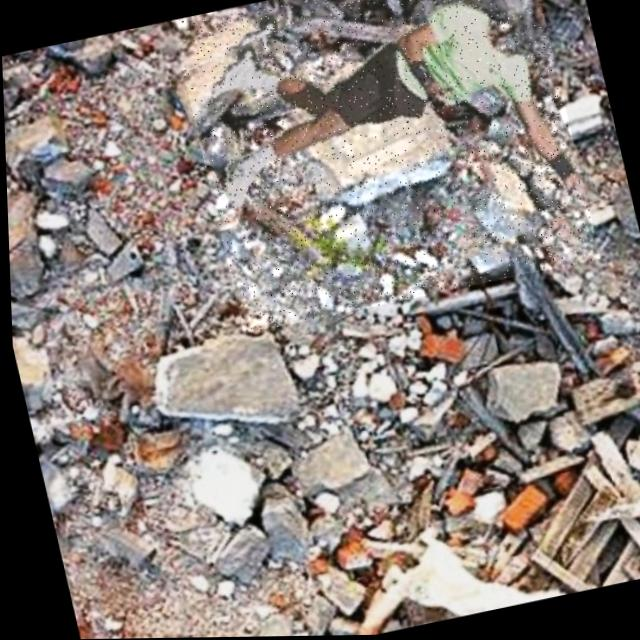Person in Rubble: (170, 0, 600, 335)
